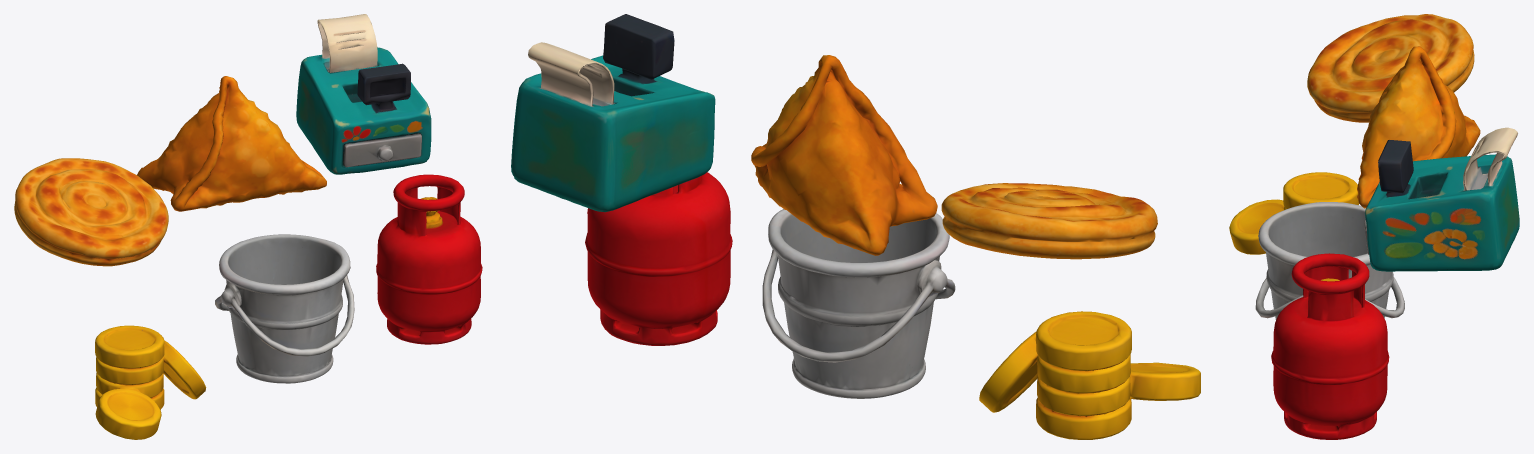
File: tripo_convert_cc27eaae-0cdd-4c95-9657-f3644bbb8dda.fbx
3 views of the same model, side by side, from view 1: azimuth 30°, elevation 25°; view 2: azimuth 150°, elevation 25°; view 3: azimuth 270°, elevation 25° (orthographic). The views are drawn at different scales.
Parts seen in each view (by area): view 1: tripo_node_cc27eaae; view 2: tripo_node_cc27eaae; view 3: tripo_node_cc27eaae.
Boxes of the visible parts, bbox=[...] form: tripo_node_cc27eaae: bbox=[14, 14, 482, 439]; tripo_node_cc27eaae: bbox=[511, 14, 1200, 439]; tripo_node_cc27eaae: bbox=[1229, 14, 1519, 439].
Bounding box in the file's own units: 0.9791 × 0.5888 × 0.5289.
1 material, 1 textured.
